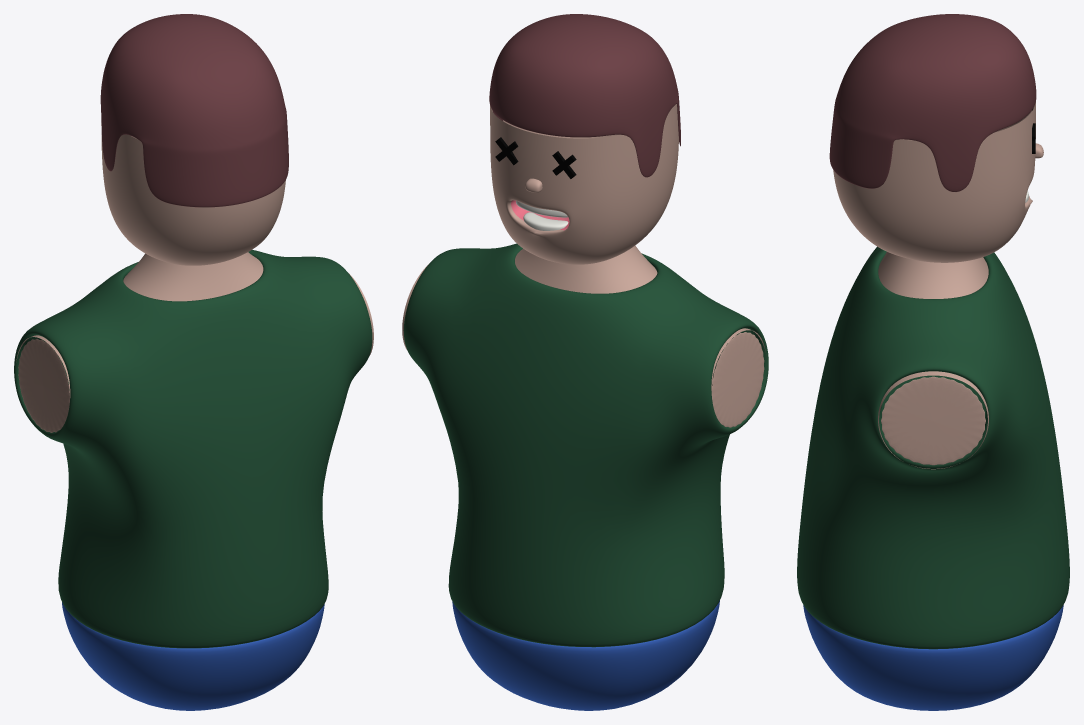
File: 2_body.fbx
3 renders of one model, left to right at view 1: azimuth 30°, elevation 25°; view 2: azimuth 150°, elevation 25°; view 3: azimuth 270°, elevation 25°, orthographic.
Parts seen in each view (by area): view 1: sweater, hair.001, pants, head.001, body; view 2: sweater, hair.001, head.001, pants, body, dead_eyes; view 3: sweater, hair.001, head.001, pants, body.
Part boxes in pixels (<box>): sweater: <box>14,249,372,648</box>; hair.001: <box>100,14,288,207</box>; pants: <box>62,602,324,710</box>; head.001: <box>101,123,285,265</box>; body: <box>16,252,373,432</box>; sweater: <box>403,243,768,647</box>; hair.001: <box>489,14,680,177</box>; head.001: <box>490,104,678,264</box>; pants: <box>452,600,719,710</box>; body: <box>402,245,766,427</box>; dead_eyes: <box>495,137,576,178</box>; sweater: <box>797,246,1069,649</box>; hair.001: <box>829,14,1036,191</box>; head.001: <box>833,102,1035,262</box>; pants: <box>803,605,1063,710</box>; body: <box>878,252,988,469</box>.
Size of the model in its own units: 65.64 by 134 by 49.55.
